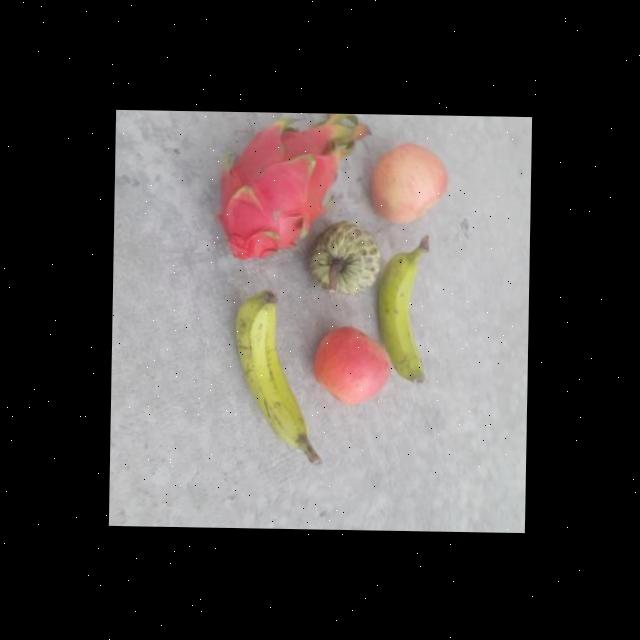Sakya fruit: (310, 219, 380, 293)
apple: (370, 138, 449, 224), (311, 323, 391, 405)
banana: (232, 288, 320, 447), (376, 233, 430, 384)
pitaya: (214, 111, 338, 262)
